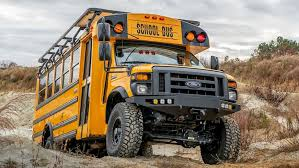bus: (32, 4, 243, 166)
